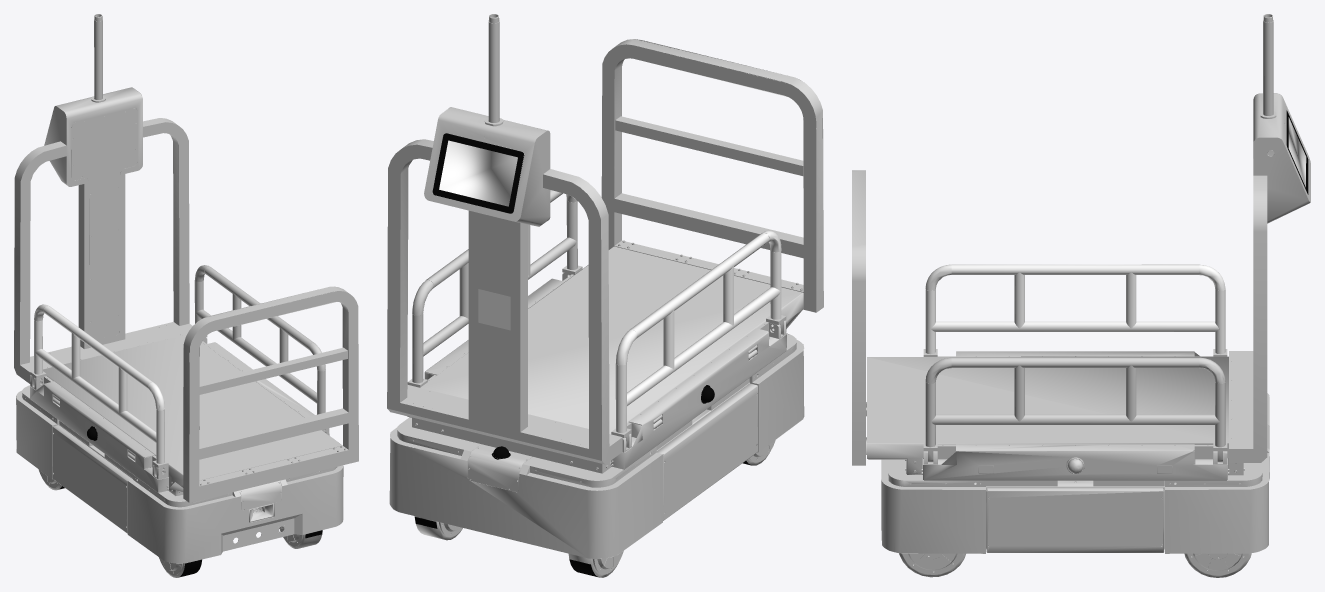
Rendered from platform.glb.
The picture shows the model from 3 angles, left to right: view 1: azimuth 30°, elevation 25°; view 2: azimuth 150°, elevation 25°; view 3: azimuth 270°, elevation 25°; orthographic projection. The views are drawn at different scales.
Visible parts, largest first — view 1: platform; view 2: platform; view 3: platform.
Part boxes in pixels (<box>): platform: <box>14,14,358,577</box>; platform: <box>387,14,823,577</box>; platform: <box>852,14,1310,577</box>.
Size of the model in its own units: 0.7214 by 1.65 by 1.32.
Materials: 6 (1 with a texture image).
